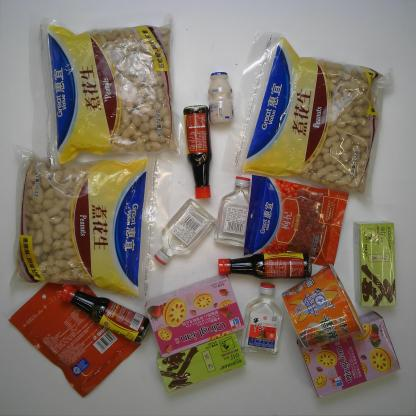Alcohol: (152, 198, 217, 266), (242, 282, 286, 358), (213, 174, 252, 248)
Dessert: (300, 310, 403, 401), (145, 274, 248, 360)
Dried Food: (220, 27, 394, 204), (25, 11, 185, 168), (7, 144, 163, 299)
Dried Fruit: (6, 284, 143, 399), (242, 174, 349, 266)
Instant Drink: (156, 332, 248, 394), (354, 219, 399, 311)
Instant Noodles: (280, 264, 368, 350)
Milk: (206, 69, 236, 127)
Seasoner: (58, 282, 150, 346), (180, 103, 213, 201), (217, 252, 314, 280)
